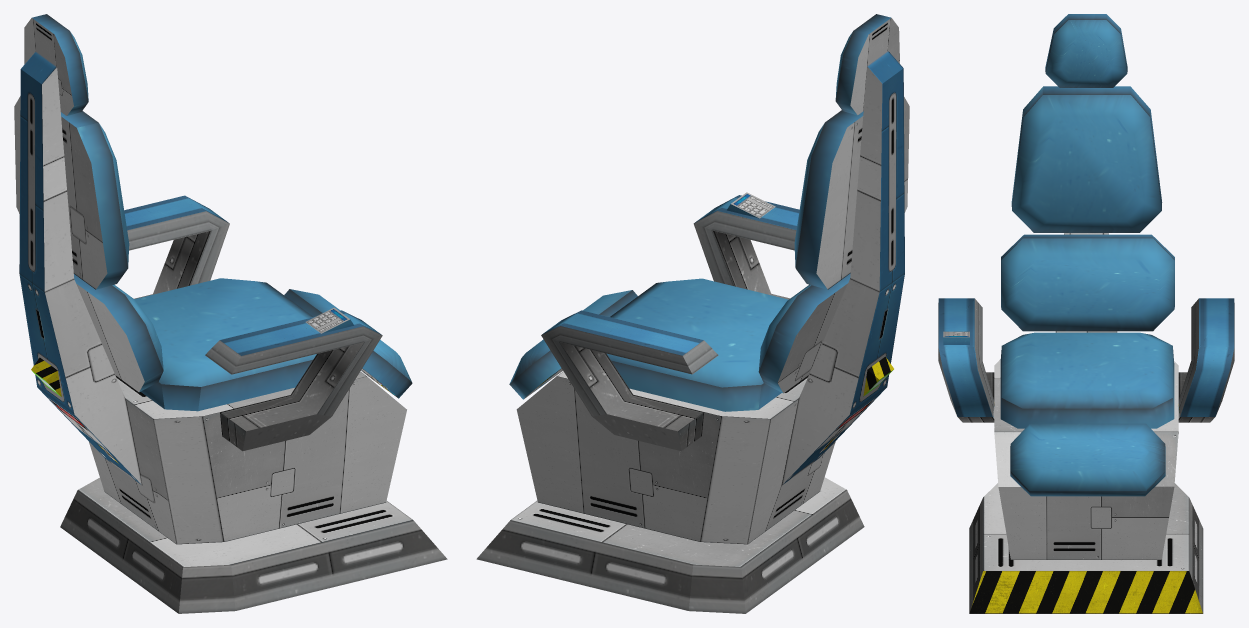
File: Commander_Chair_01.FBX
3 renders of one model, left to right at view 1: azimuth 30°, elevation 25°; view 2: azimuth 150°, elevation 25°; view 3: azimuth 270°, elevation 25°, orthographic. The views are drawn at different scales.
Visible parts, largest first — view 1: Commander_Chair_01, Base; view 2: Commander_Chair_01, Base; view 3: Commander_Chair_01, Base.
Part boxes in pixels (<box>): Commander_Chair_01: <box>14,14,412,544</box>; Base: <box>60,477,447,613</box>; Commander_Chair_01: <box>509,14,909,544</box>; Base: <box>476,477,864,613</box>; Commander_Chair_01: <box>938,14,1234,559</box>; Base: <box>969,483,1203,613</box>.
Bounding box in the file's own units: 44.84 × 69.44 × 40.07.
